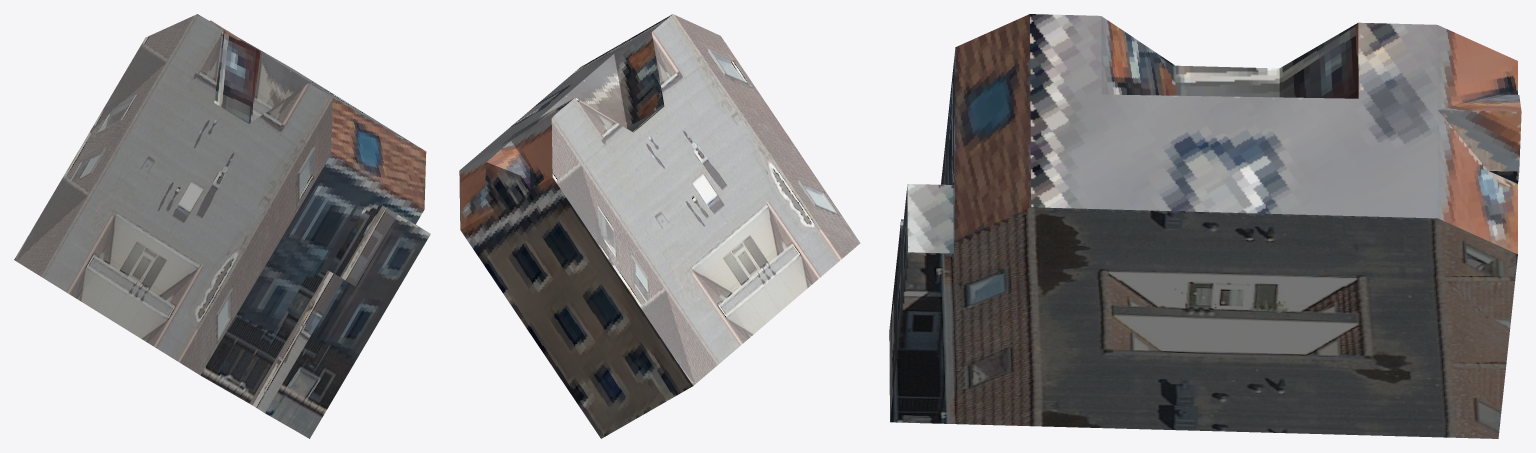
3 views of the same model, side by side, from view 1: azimuth 30°, elevation 25°; view 2: azimuth 150°, elevation 25°; view 3: azimuth 270°, elevation 25° (orthographic). The views are drawn at different scales.
Parts seen in each view (by area): view 1: BAG_0599100000670792 (×3); view 2: BAG_0599100000670792 (×2); view 3: BAG_0599100000670792 (×3).
Part boxes in pixels (left/top/right/bottom): BAG_0599100000670792 (×3): left=14, top=14, right=430, bottom=438; BAG_0599100000670792 (×2): left=459, top=14, right=860, bottom=438; BAG_0599100000670792 (×3): left=889, top=14, right=1521, bottom=438.
Size of the model in its own units: 12.83 by 14.26 by 16.92.
1 material, 1 textured.
